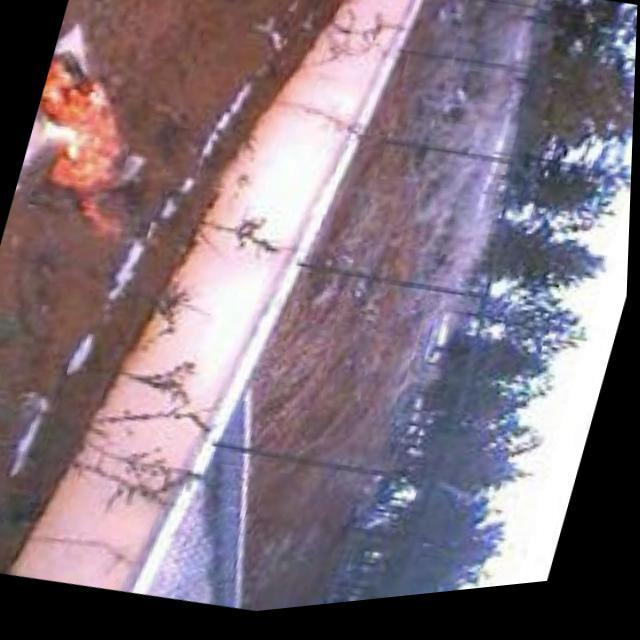fire: (8, 32, 172, 250)
